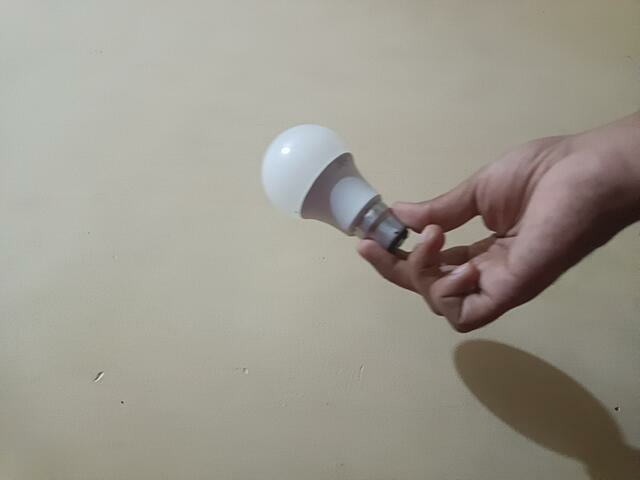Bulb: (261, 122, 409, 258)
